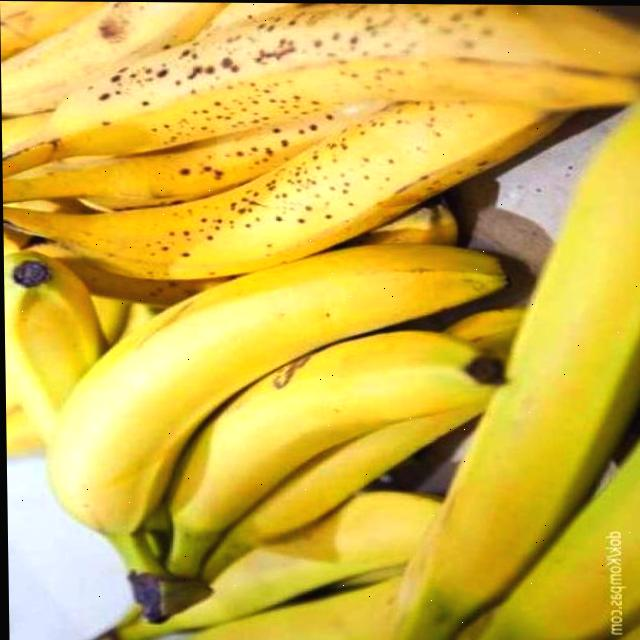banana: (10, 5, 640, 640), (36, 13, 639, 285), (43, 238, 505, 582), (368, 111, 640, 640)
